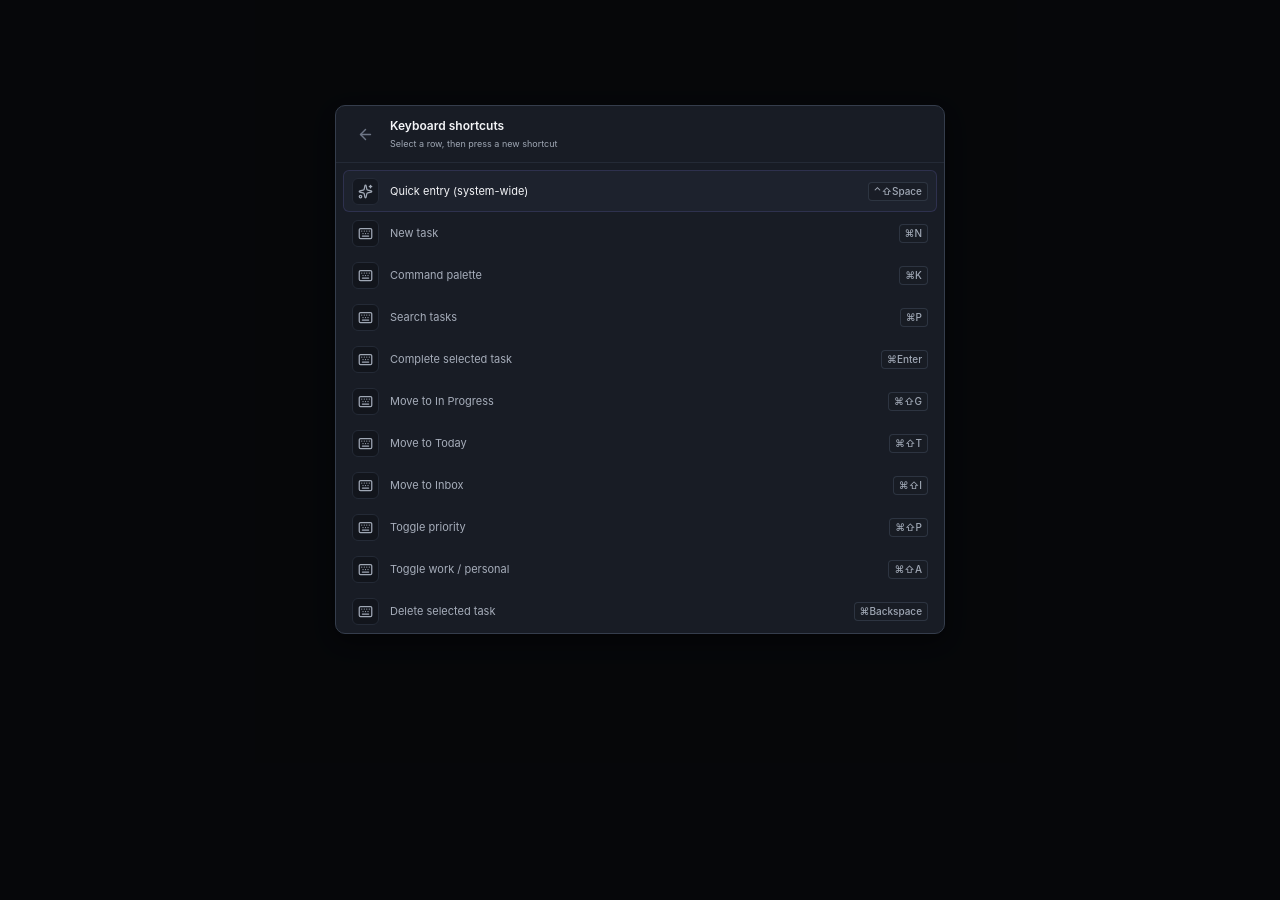
Test case: command palette › rejects a shortcut collision regardless of modifier order
Click the option "Quick entry (system-wide) ⌃⇧Space": (459, 191) [343, 170, 937, 212]
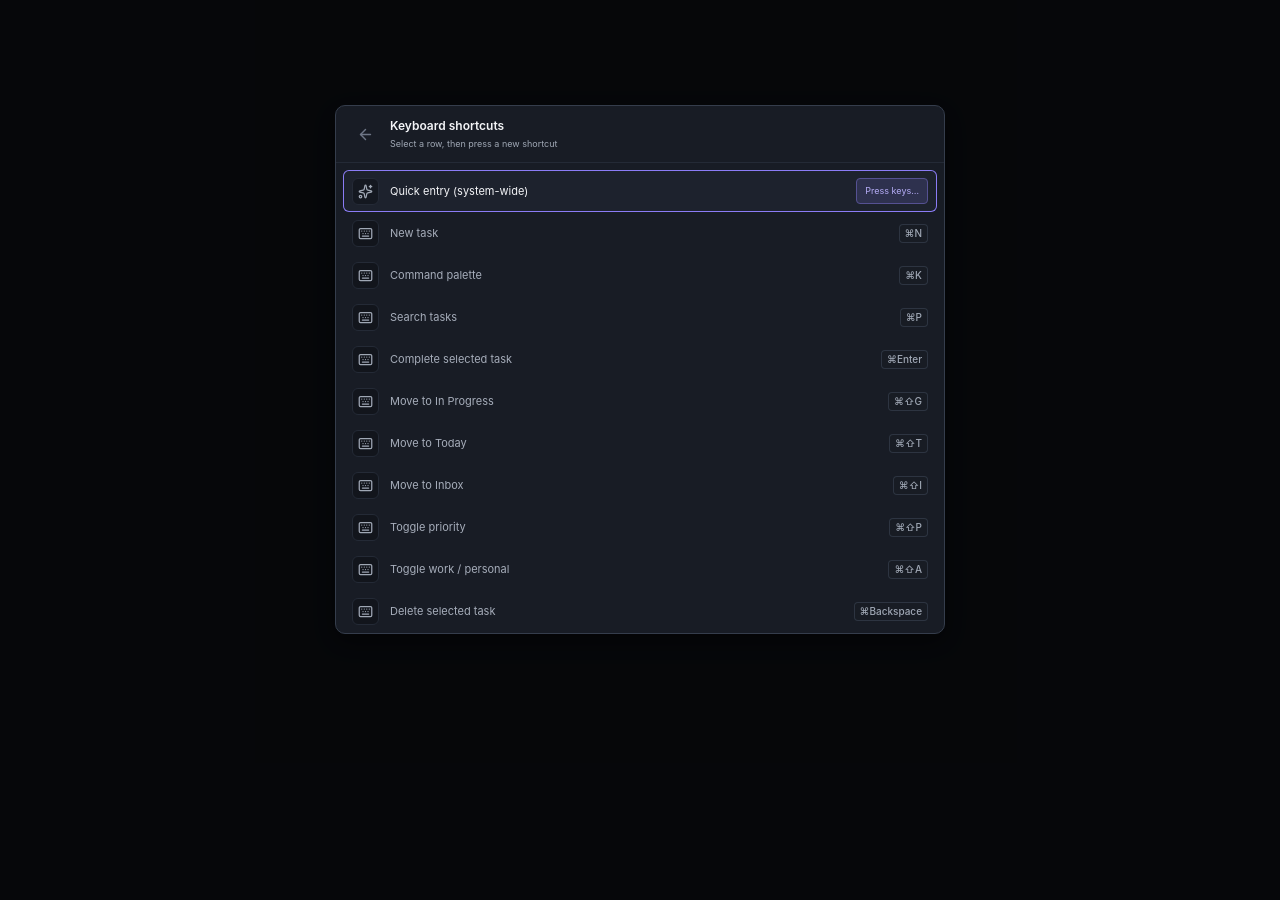
Press t in the dialog, box [335, 105, 945, 634]
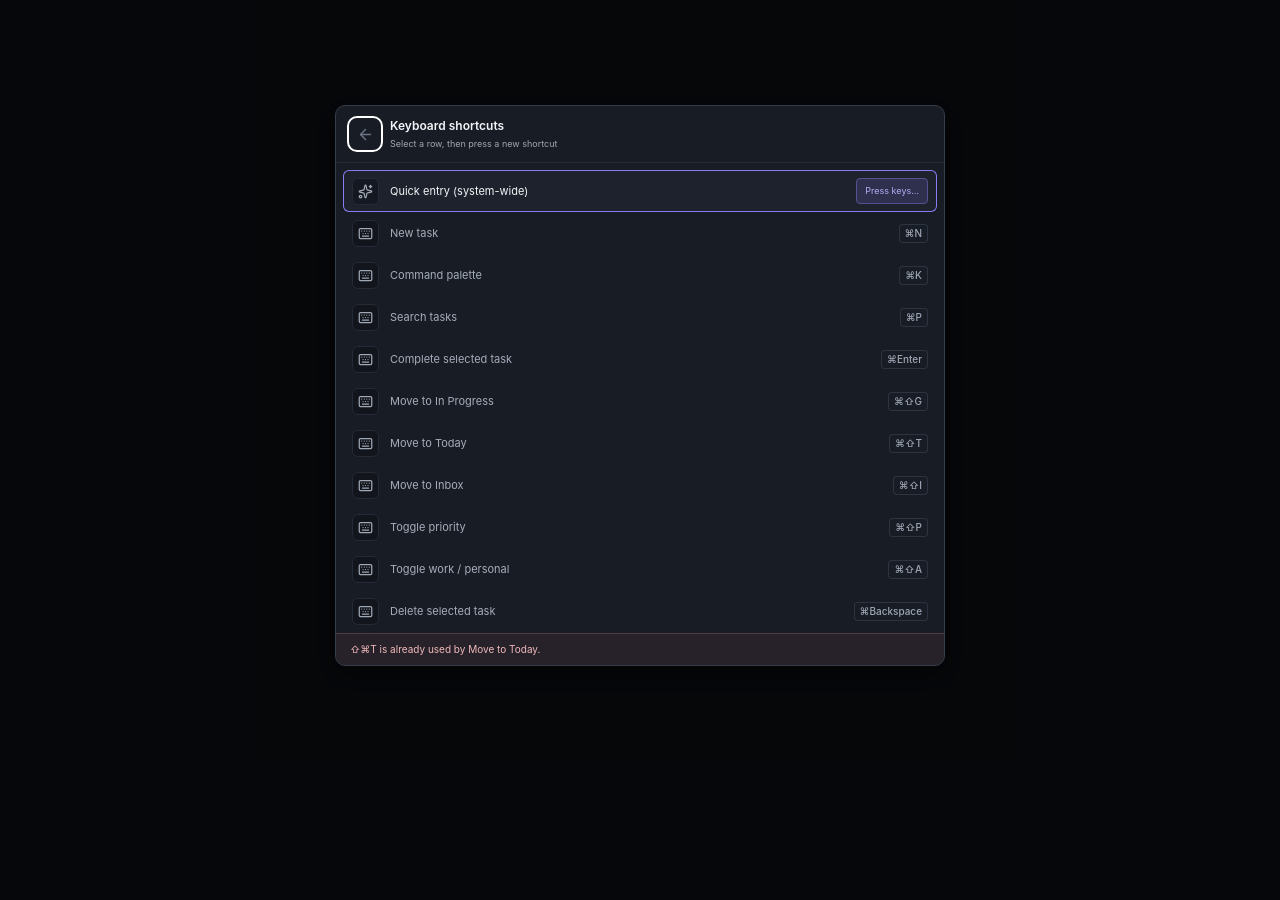
Now the text "⇧⌘T is already used by Move to Today." is shown, box [336, 633, 944, 665]
